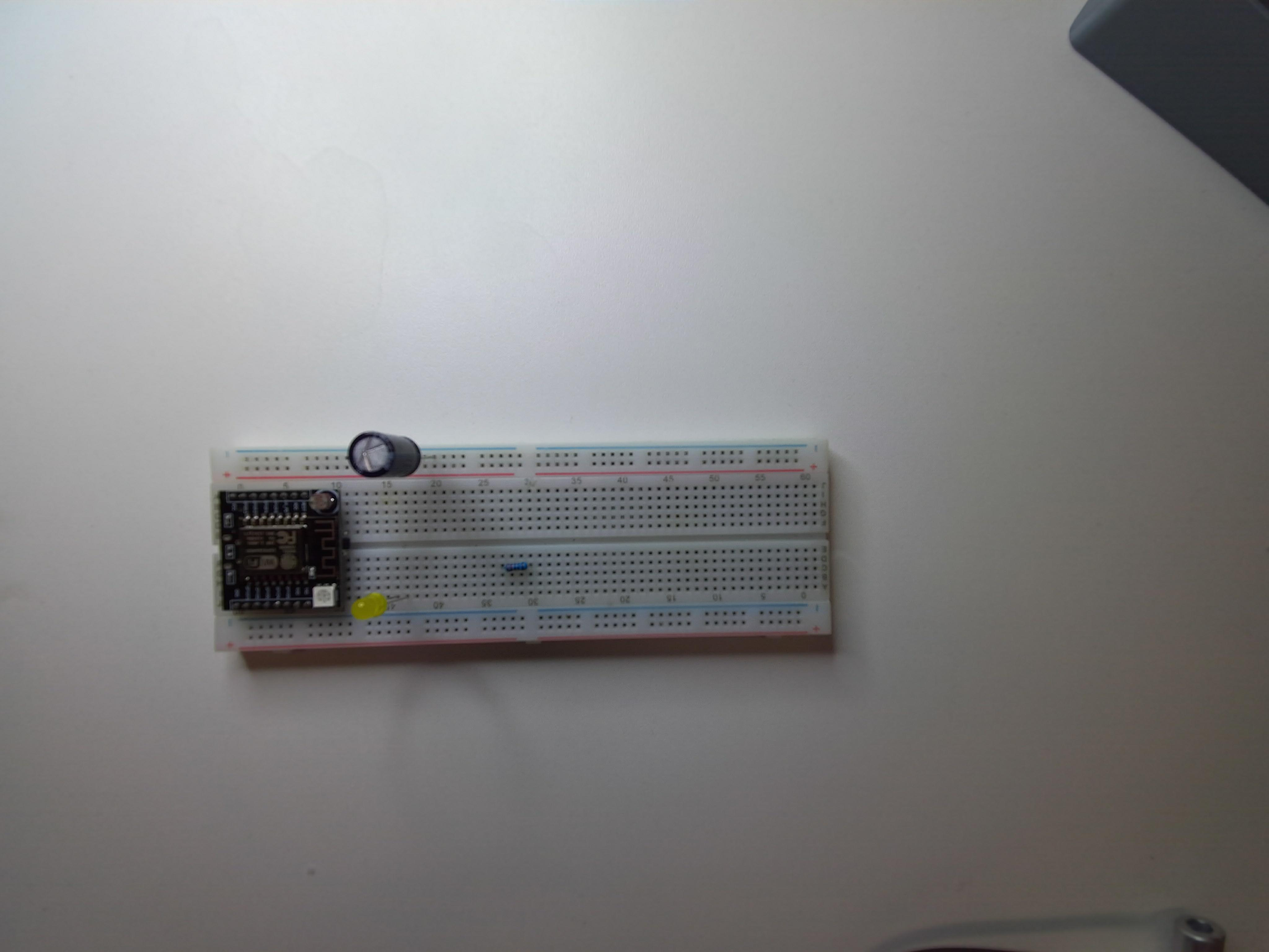base: (210, 430, 835, 653)
capacitor: (348, 429, 421, 478)
esp: (218, 490, 345, 614)
resistor-small: (502, 558, 527, 574)
yellow-led: (352, 592, 387, 621)
